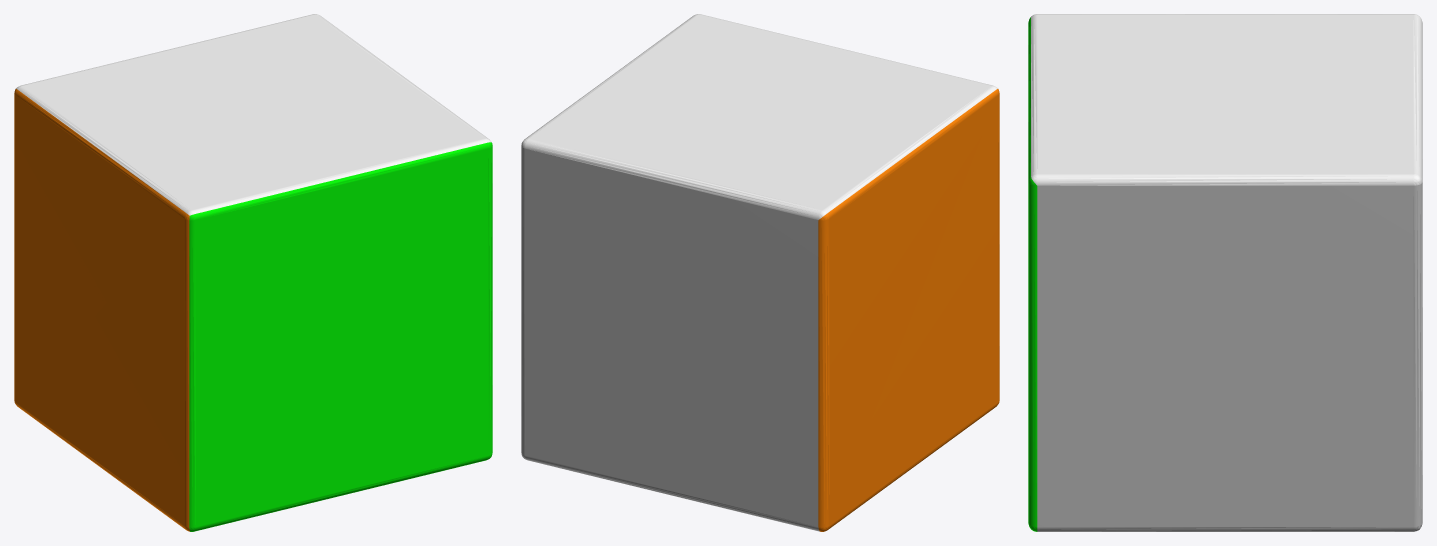
File: ULF.obj
3 renders of one model, left to right at view 1: azimuth 30°, elevation 25°; view 2: azimuth 150°, elevation 25°; view 3: azimuth 270°, elevation 25°, orthographic. The views are drawn at different scales.
Visible parts, largest first — view 1: corner_ULF; view 2: corner_ULF; view 3: corner_ULF.
Part boxes in pixels (x1,y1,x2,y2): corner_ULF: (14, 14, 492, 531); corner_ULF: (521, 14, 999, 531); corner_ULF: (1028, 14, 1422, 531).
Bounding box in the file's own units: 0.2003 × 0.2003 × 0.2003.
Materials: 1 (1 with a texture image).
